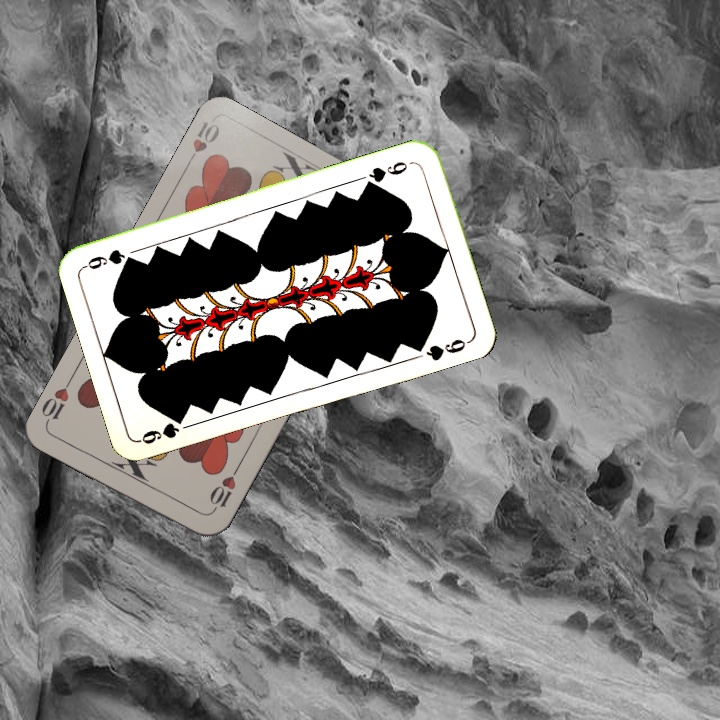G9: (361, 157, 416, 190), (136, 413, 187, 447)
H10: (181, 117, 223, 171), (205, 462, 242, 516)
